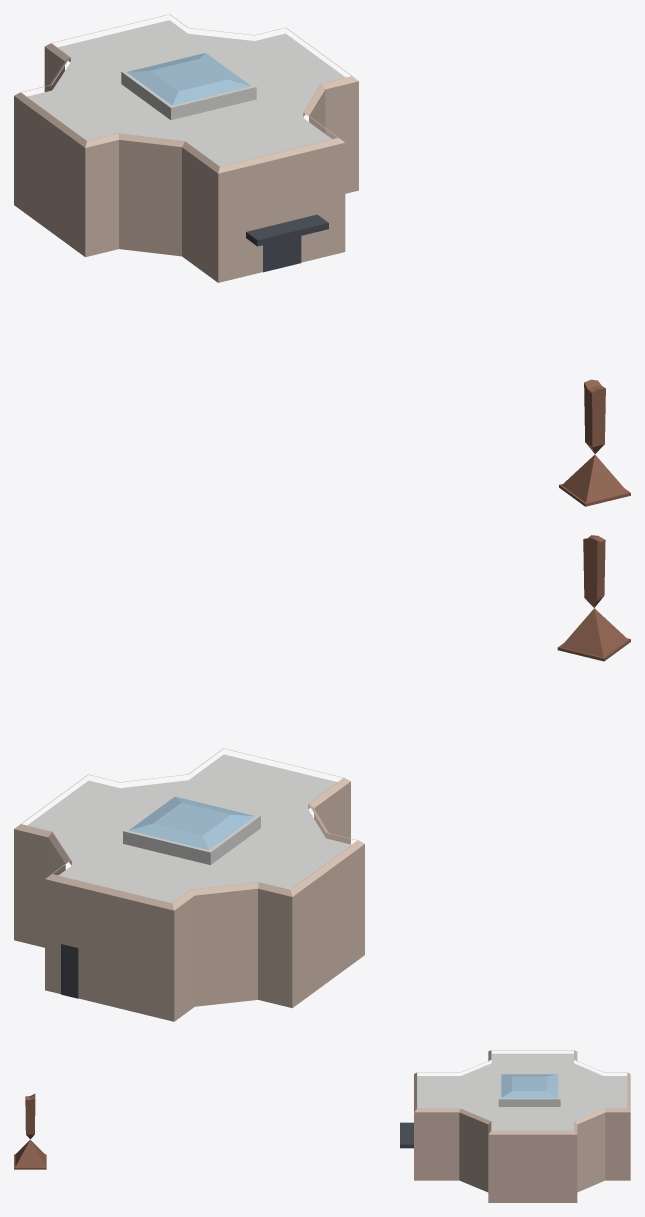
The model's file is hou-rothko-chapel.glb.
3 renders of one model, top to bottom at view 1: azimuth 30°, elevation 25°; view 2: azimuth 150°, elevation 25°; view 3: azimuth 270°, elevation 25°, orthographic. The views are drawn at different scales.
Parts seen in each view (by area): view 1: Rothko Chapel; view 2: Rothko Chapel; view 3: Rothko Chapel.
Boxes of the visible parts, x1=… form: Rothko Chapel: x1=14, y1=14, x2=630, y2=506; Rothko Chapel: x1=14, y1=535, x2=630, y2=1021; Rothko Chapel: x1=14, y1=1050, x2=630, y2=1202.
Bounding box in the file's own units: 20.7 × 9 × 64.88.
